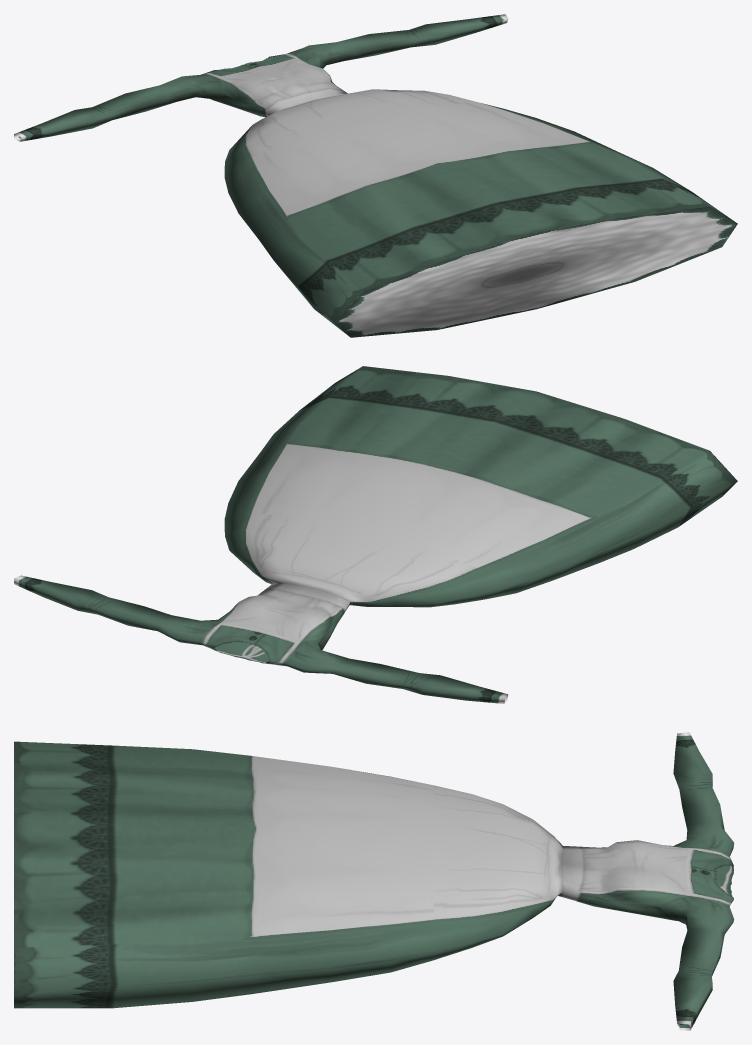
The model's file is WorldItem_RoundGown4_LongSleeved.fbx.
The picture shows the model from 3 angles, top to bottom: view 1: azimuth 30°, elevation 25°; view 2: azimuth 150°, elevation 25°; view 3: azimuth 270°, elevation 25°; orthographic projection. The views are drawn at different scales.
Parts seen in each view (by area): view 1: Gown4; view 2: Gown4; view 3: Gown4.
Boxes of the visible parts, left/top/right/bottom form: Gown4: left=14, top=14, right=737, bottom=337; Gown4: left=14, top=366, right=737, bottom=703; Gown4: left=14, top=732, right=734, bottom=1030.
Size of the model in its own units: 0.7405 by 0.1109 by 0.7744.
